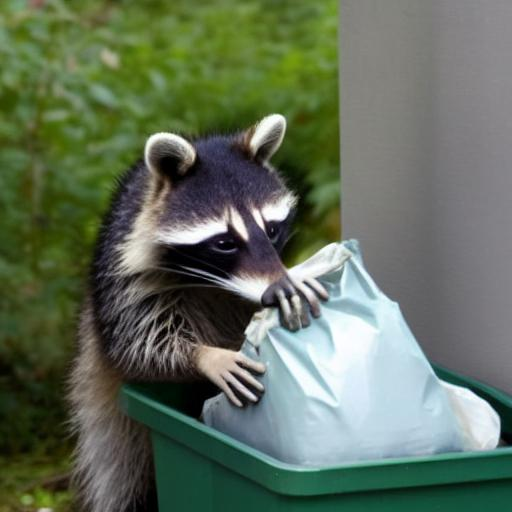raccoon: (59, 108, 311, 512)
